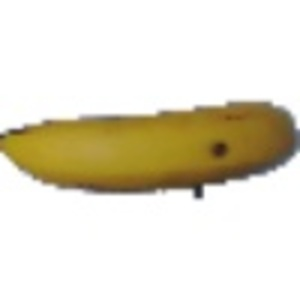banana: (2, 92, 297, 201)
